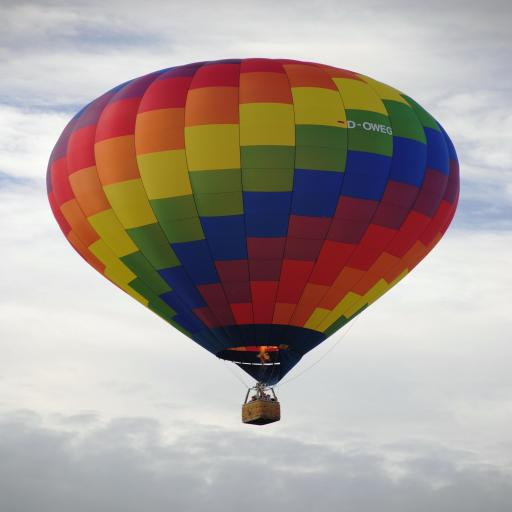hot air ballon: (42, 52, 464, 426)
